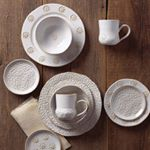cups: (52, 92, 91, 122), (97, 16, 133, 48)
